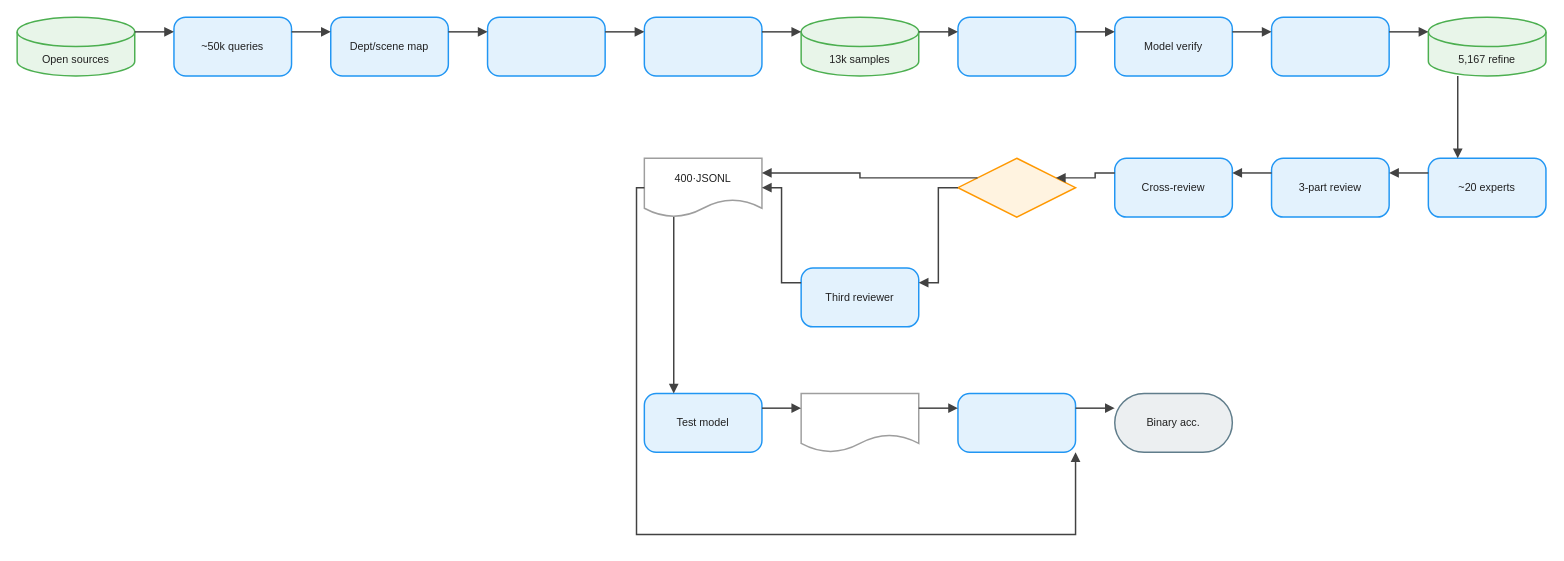
The diagram is 1564 pixels wide and 561 high, and some of its shapes have lost their labels. Here are the shapes that lost their labels. From the top down, the box of each, then its label:
(486, 16, 605, 76): 3-stage carry
(643, 16, 762, 76): 3 convo agents
(957, 16, 1076, 76): Generator
(1270, 16, 1389, 76): Conv. screen
(957, 157, 1076, 217): Disagreement?
(800, 392, 919, 453): Final answer
(957, 392, 1076, 453): ATP judge
